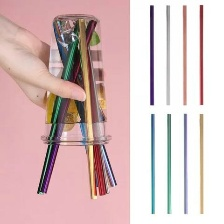drinking_straw: (146, 3, 159, 107), (194, 2, 206, 106), (195, 112, 207, 215), (179, 112, 190, 216), (148, 112, 158, 216), (180, 2, 189, 108), (164, 111, 173, 216), (163, 3, 172, 107)
glass: (37, 11, 115, 149)
